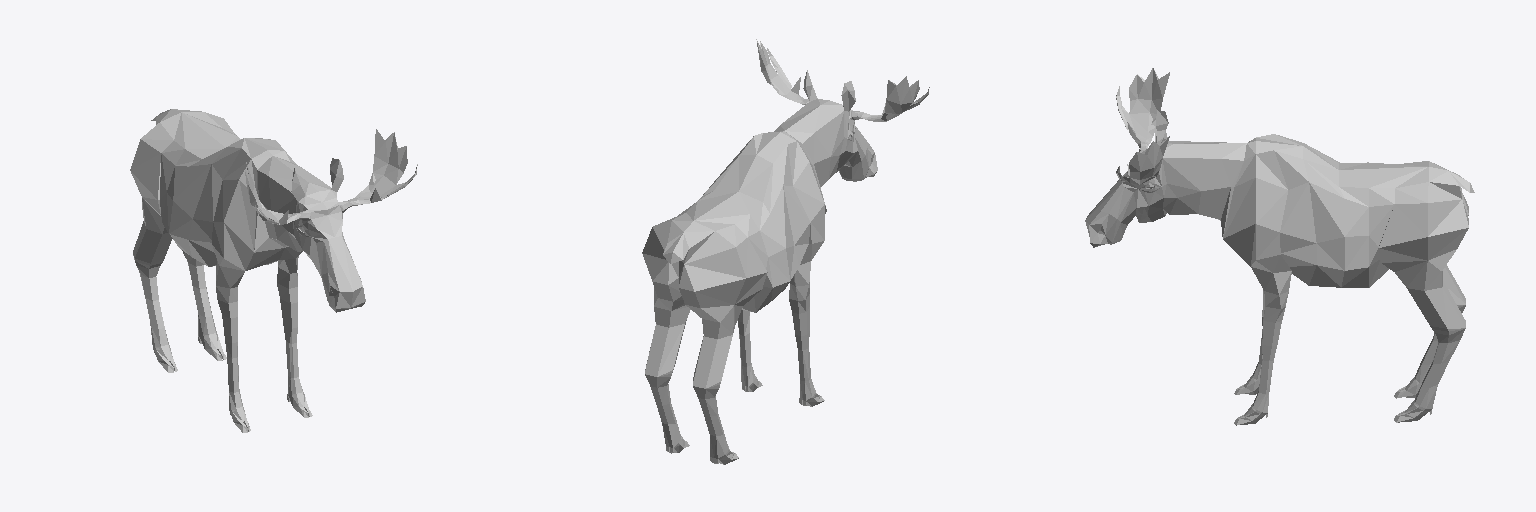
File: moose.obj
The picture shows the model from 3 angles: view 1: azimuth 30°, elevation 25°; view 2: azimuth 150°, elevation 25°; view 3: azimuth 270°, elevation 25°; orthographic projection.
Parts seen in each view (by area): view 1: Moose; view 2: Moose; view 3: Moose.
Part boxes in pixels (bbox=[...]): Moose: bbox=[130, 109, 417, 432]; Moose: bbox=[642, 39, 929, 464]; Moose: bbox=[1085, 68, 1474, 425].
Bounding box in the file's own units: 1.56 × 2.77 × 3.21.